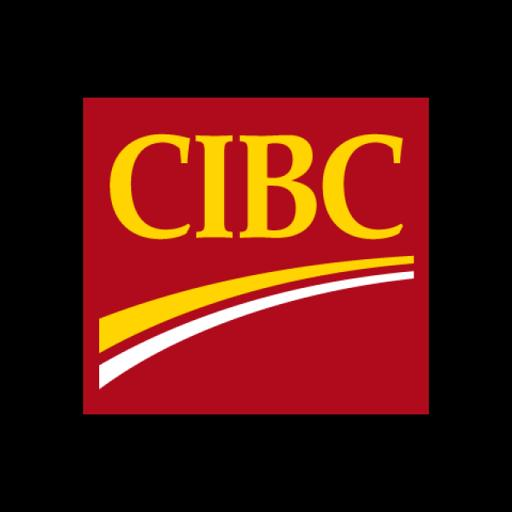Canadian Imperial Bank of Commerce: (0, 96, 512, 416)
